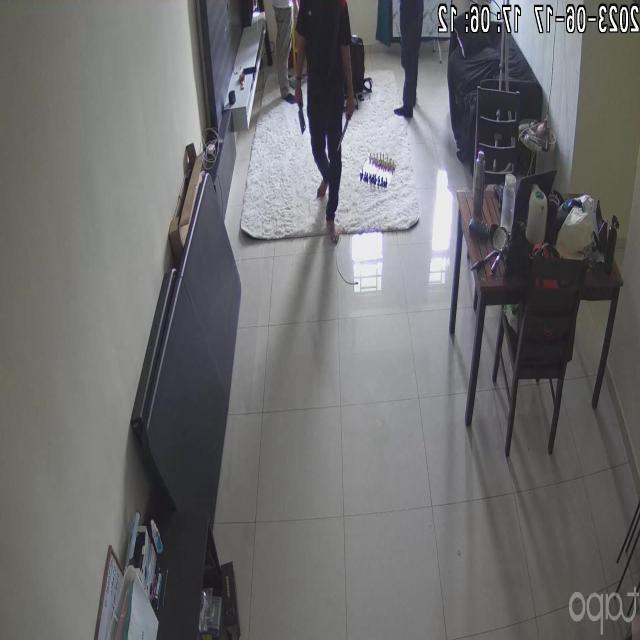Knife: (332, 100, 362, 152), (286, 84, 312, 140)
